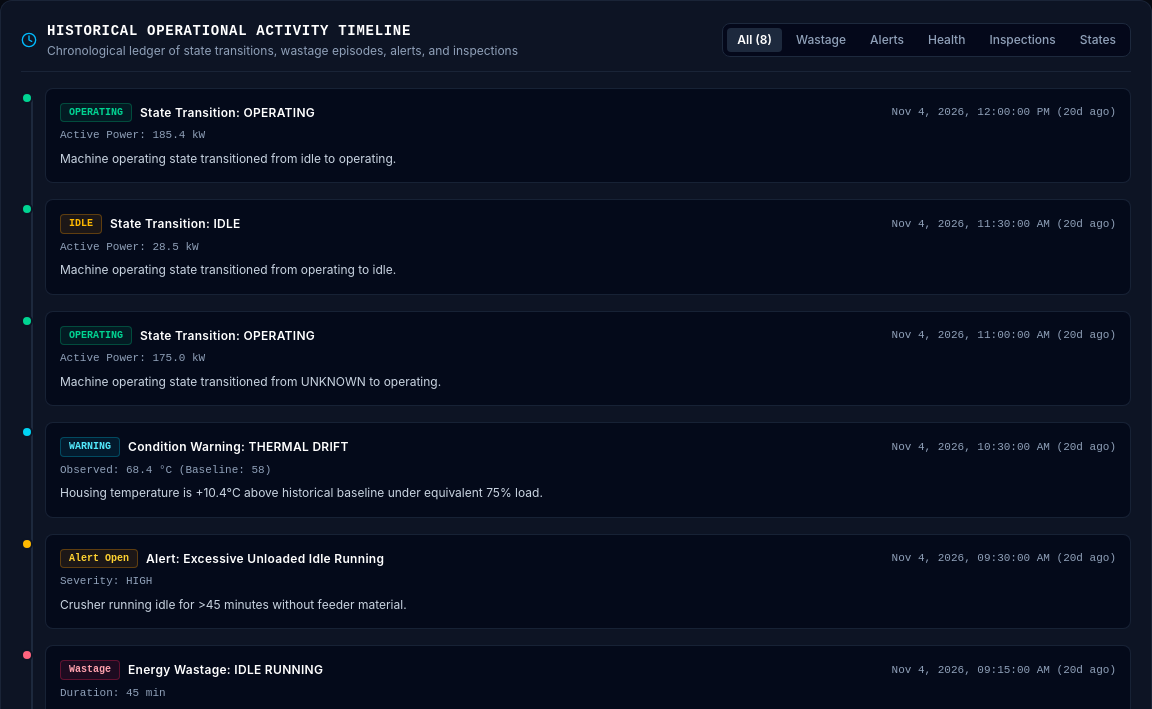
Stage 9C: Machine Detail & Live Telemetry Experience › HistoricalActivityTimeline › renders combined chronological events and filters by category
Expected: the heading "Historical Operational Activity Timeline" is shown, [47,23,411,39]
Expected: the text "Energy Wastage: IDLE RUNNING" is shown, [128,662,323,678]
# Filter to Wastage only
Click the button "Wastage" at {"x": 821, "y": 40}, box [786,28,856,52]
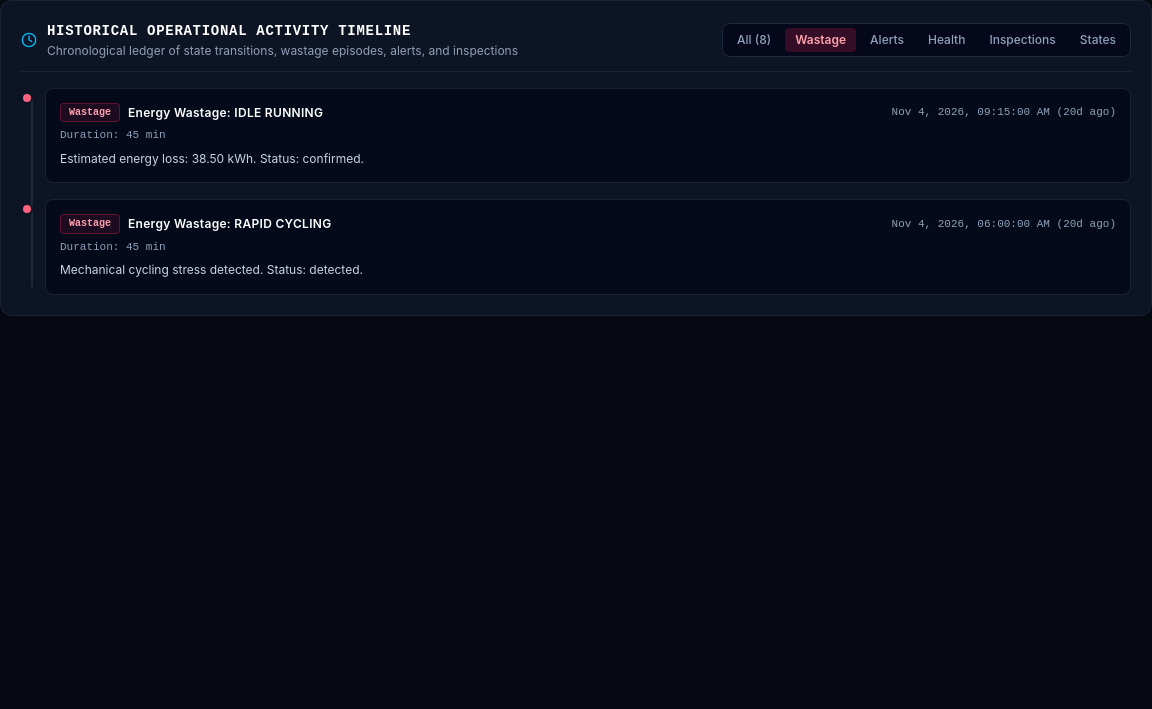
Expected: the text "Energy Wastage: IDLE RUNNING" is shown, [128,105,323,121]
Result: the text "Alert: Excessive Unloaded Idle Running" is gone
